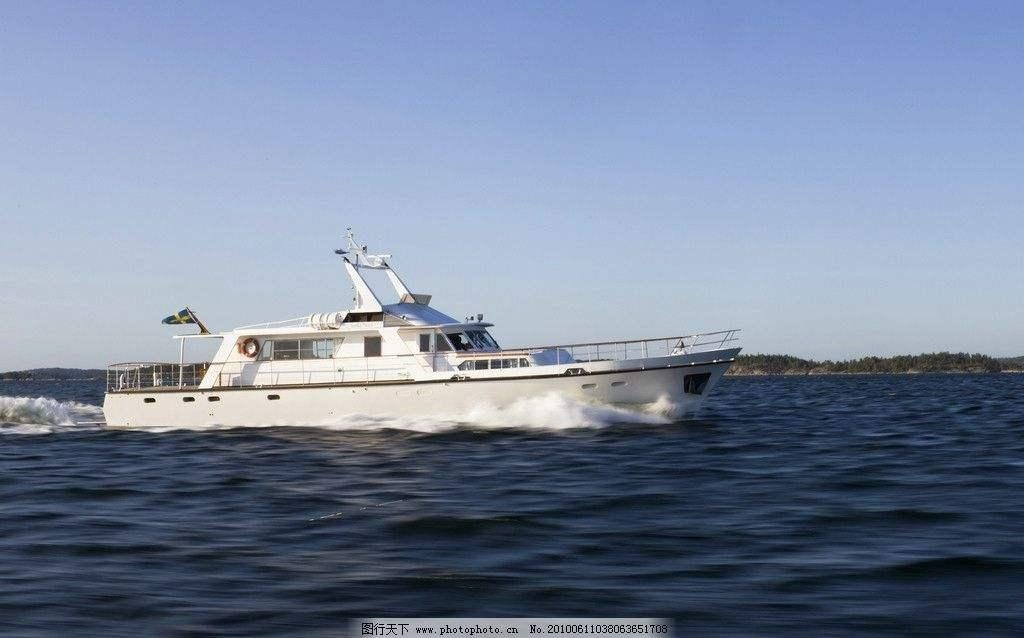yacht: (100, 230, 754, 428)
